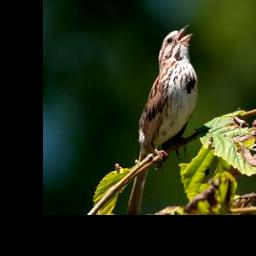Sparrow: (127, 23, 199, 212)
